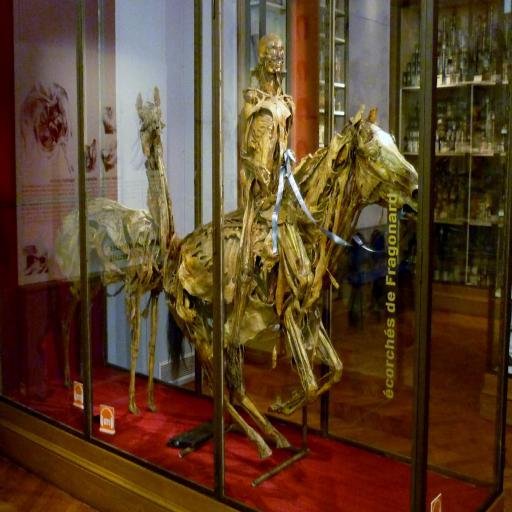Horse: (159, 103, 421, 487)
